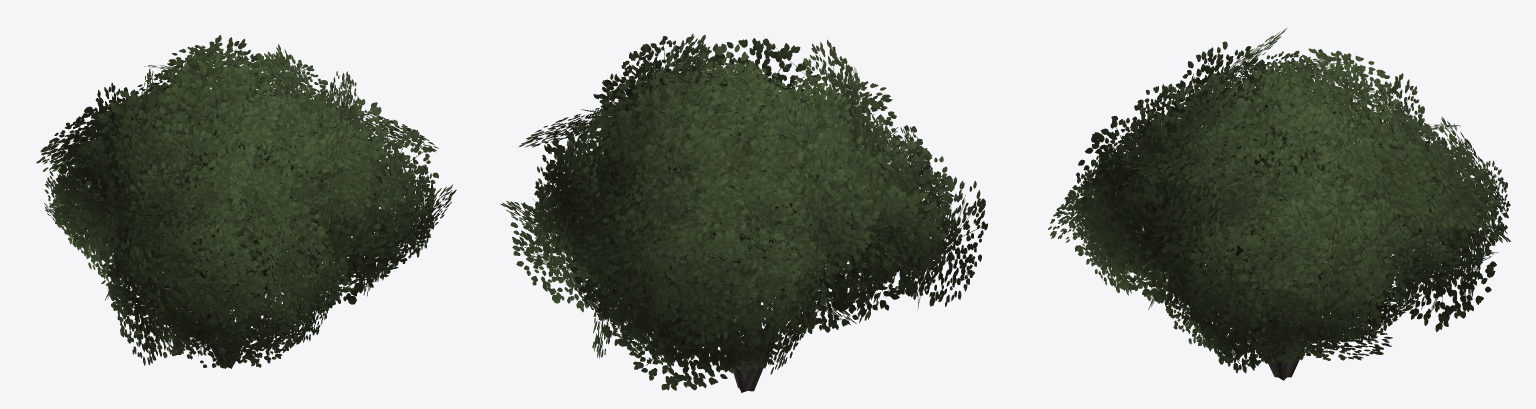
Rendered from bush.glb.
3 renders of one model, left to right at view 1: azimuth 30°, elevation 25°; view 2: azimuth 150°, elevation 25°; view 3: azimuth 270°, elevation 25°, orthographic. The views are drawn at different scales.
Visible parts, largest first — view 1: bush; view 2: bush; view 3: bush.
Boxes of the visible parts, <box> form: bush: <box>36,35,456,368</box>; bush: <box>500,33,987,392</box>; bush: <box>1048,28,1510,380</box>.
Size of the model in its own units: 1.9 by 1.6 by 2.02.
Materials: 2 (2 with a texture image).
